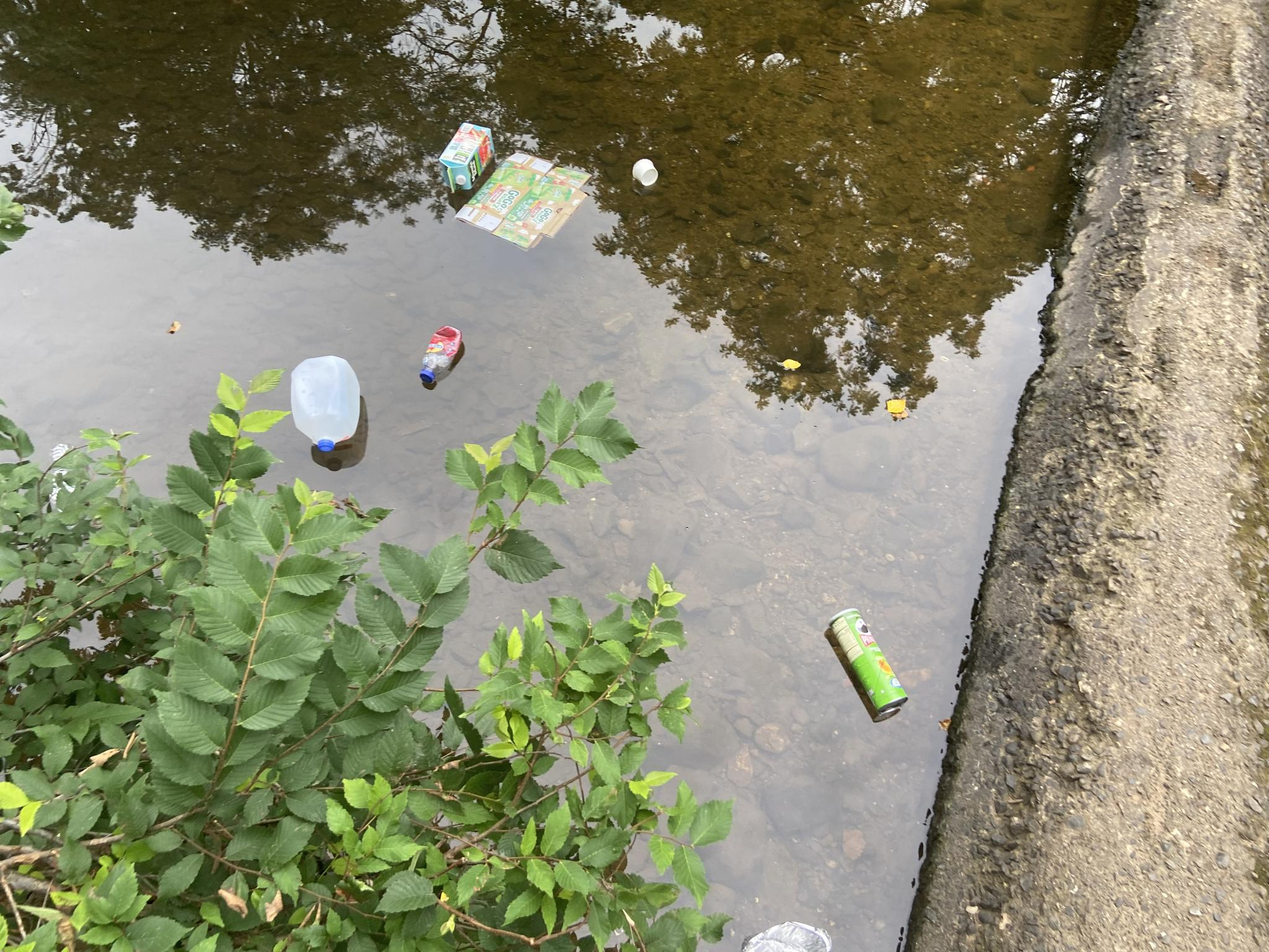cardboard: (457, 139, 600, 261), (425, 107, 496, 203)
metal: (814, 601, 924, 729), (724, 911, 852, 952)
paper: (622, 143, 671, 192)
plastic: (284, 345, 375, 479), (408, 316, 470, 395)
